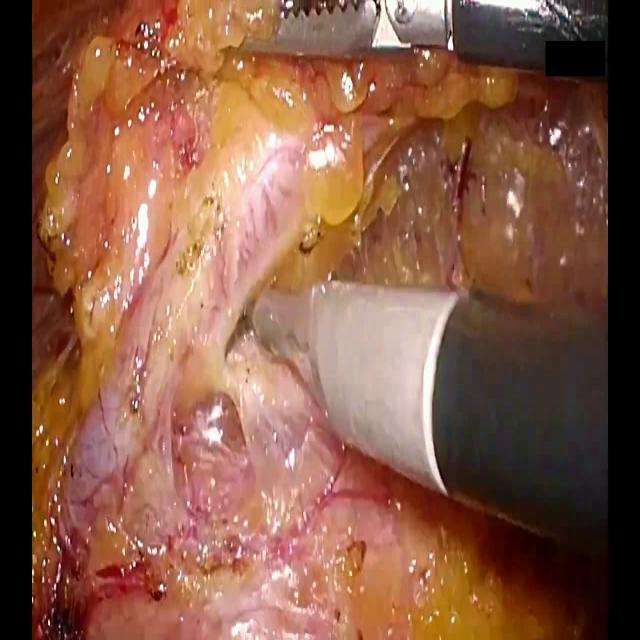surgical-area: (33, 0, 612, 639)
surgical-tool: (250, 276, 612, 571), (239, 0, 608, 75)
